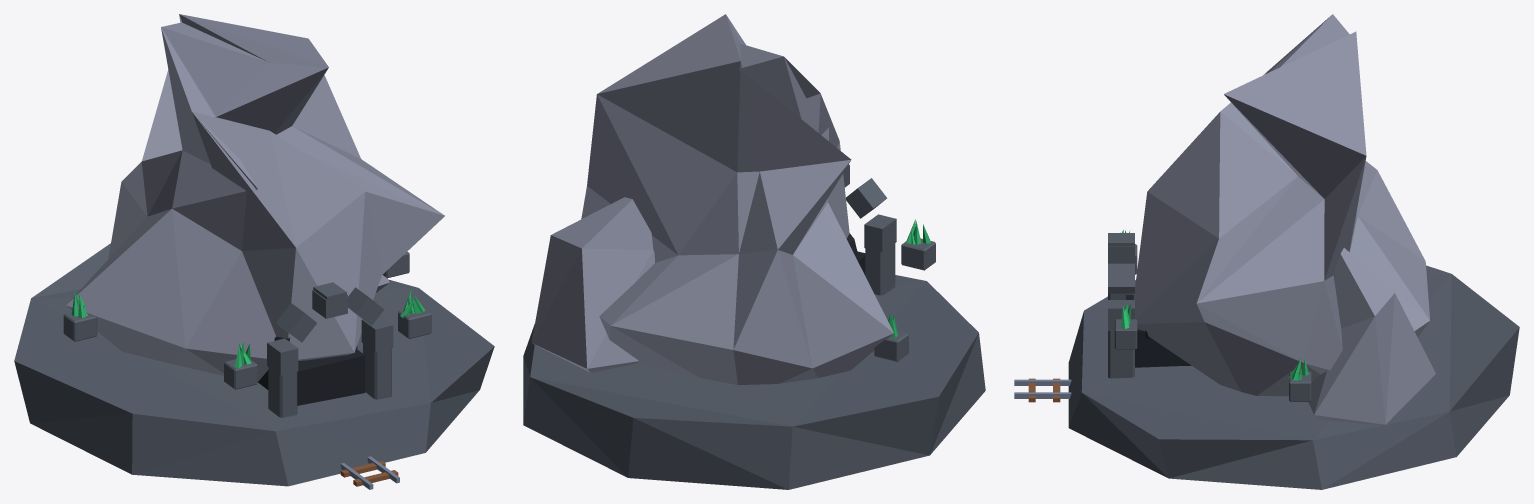
Rendered from SM_Mountain_Emerald.fbx.
3 renders of one model, left to right at view 1: azimuth 30°, elevation 25°; view 2: azimuth 150°, elevation 25°; view 3: azimuth 270°, elevation 25°, orthographic. The views are drawn at different scales.
Visible parts, largest first — view 1: SM_Mountain_Emerald; view 2: SM_Mountain_Emerald; view 3: SM_Mountain_Emerald.
Part boxes in pixels (box(x1,y1,x2,y2)): SM_Mountain_Emerald: box(14, 14, 494, 489); SM_Mountain_Emerald: box(523, 14, 985, 489); SM_Mountain_Emerald: box(1014, 14, 1519, 489).
Size of the model in its own units: 10.33 by 8.69 by 11.31.
